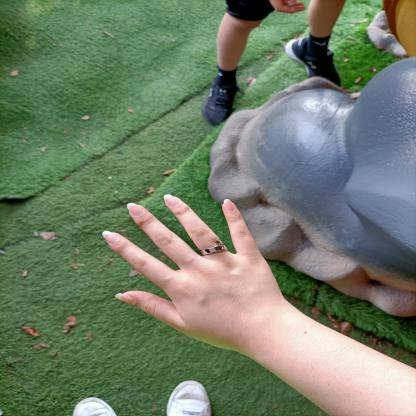bare_hand: (90, 186, 310, 366)
